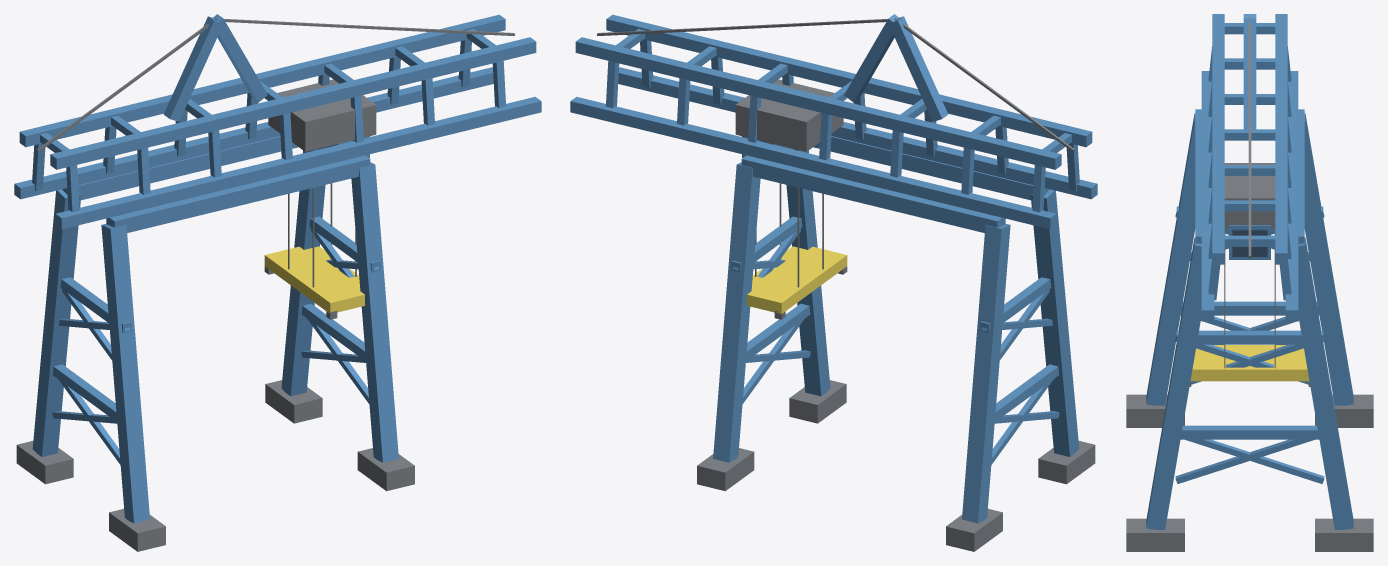
The model's file is harbor_gantry_crane.glb.
3 renders of one model, left to right at view 1: azimuth 30°, elevation 25°; view 2: azimuth 150°, elevation 25°; view 3: azimuth 270°, elevation 25°, orthographic. The views are drawn at different scales.
Parts seen in each view (by area): view 1: Crane_Boom_Top_Aft, Crane_Boom_Bot_Aft, Crane_Leg_AL, Crane_Leg_AR, Crane_Boom_Top_Fore, Crane_Leg_FL, Crane_Boom_Bot_Fore, Crane_Header_Aft, Crane_Spreader, Crane_Leg_FR, Crane_Trolley, Crane_Header_Fore (+14 smaller); view 2: Crane_Boom_Top_Fore, Crane_Boom_Bot_Fore, Crane_Leg_FL, Crane_Leg_FR, Crane_Boom_Top_Aft, Crane_Leg_AL, Crane_Boom_Bot_Aft, Crane_Header_Fore, Crane_Spreader, Crane_Leg_AR, Crane_Trolley, Crane_Header_Aft (+14 smaller); view 3: Crane_Leg_AR, Crane_Leg_FR, Crane_Leg_AL, Crane_Leg_FL, Crane_Boom_Top_Aft, Crane_Boom_Top_Fore, Crane_Spreader, Crane_Boom_Bot_Aft, Crane_Boom_Bot_Fore, Crane_Trolley, Crane_Tie_R_6.0, Crane_Bogie_AR (+26 smaller).
Part boxes in pixels (box(x1,y1,x2,y2)): Crane_Boom_Top_Aft: box(50, 37, 536, 169); Crane_Boom_Bot_Aft: box(55, 96, 541, 229); Crane_Leg_AL: box(101, 224, 149, 523); Crane_Leg_AR: box(351, 162, 398, 462); Crane_Boom_Top_Fore: box(19, 14, 505, 147); Crane_Leg_FL: box(32, 189, 81, 456); Crane_Boom_Bot_Fore: box(14, 67, 493, 199); Crane_Header_Aft: box(106, 155, 370, 232); Crane_Spreader: box(264, 246, 364, 313); Crane_Leg_FR: box(281, 149, 325, 396); Crane_Trolley: box(268, 79, 376, 151); Crane_Header_Fore: box(62, 136, 298, 200); Crane_Boom_Top_Fore: box(575, 37, 1061, 169); Crane_Boom_Bot_Fore: box(570, 96, 1056, 229); Crane_Leg_FL: box(962, 224, 1010, 523); Crane_Leg_FR: box(713, 162, 760, 462); Crane_Boom_Top_Aft: box(606, 14, 1092, 147); Crane_Leg_AL: box(1030, 189, 1079, 456); Crane_Boom_Bot_Aft: box(618, 67, 1097, 199); Crane_Header_Fore: box(741, 155, 1005, 232); Crane_Spreader: box(747, 246, 847, 313); Crane_Leg_AR: box(786, 149, 830, 396); Crane_Trolley: box(735, 79, 843, 151); Crane_Header_Aft: box(813, 136, 1049, 200); Crane_Leg_AR: box(1146, 237, 1201, 529); Crane_Leg_FR: box(1298, 237, 1353, 529); Crane_Leg_AL: box(1146, 113, 1195, 405); Crane_Leg_FL: box(1304, 113, 1353, 405); Crane_Boom_Top_Aft: box(1212, 14, 1224, 264); Crane_Boom_Top_Fore: box(1275, 14, 1287, 264); Crane_Spreader: box(1190, 345, 1309, 381); Crane_Boom_Bot_Aft: box(1201, 71, 1214, 321); Crane_Boom_Bot_Fore: box(1285, 71, 1298, 321); Crane_Trolley: box(1224, 163, 1275, 228); Crane_Tie_R_6.0: box(1180, 425, 1319, 439); Crane_Bogie_AR: box(1126, 518, 1184, 551).
Size of the model in its own units: 27.03 by 24.64 by 11.8.
